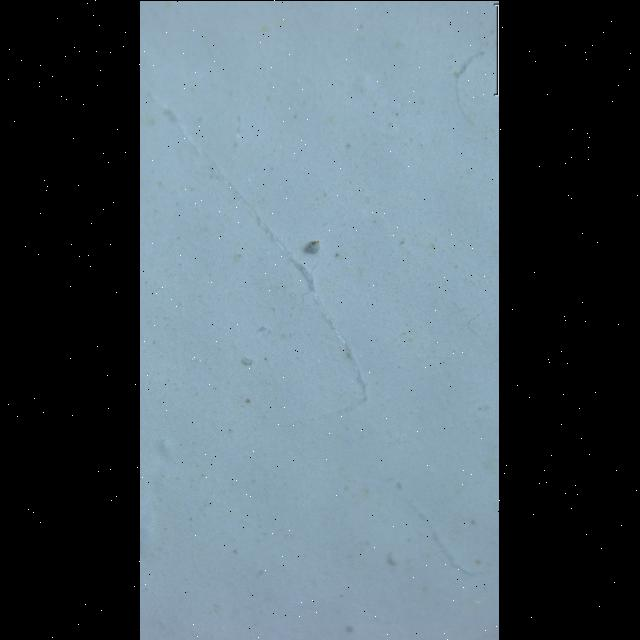Fibre: (178, 118, 368, 405), (408, 500, 477, 575)
Fragment: (304, 240, 320, 253)
